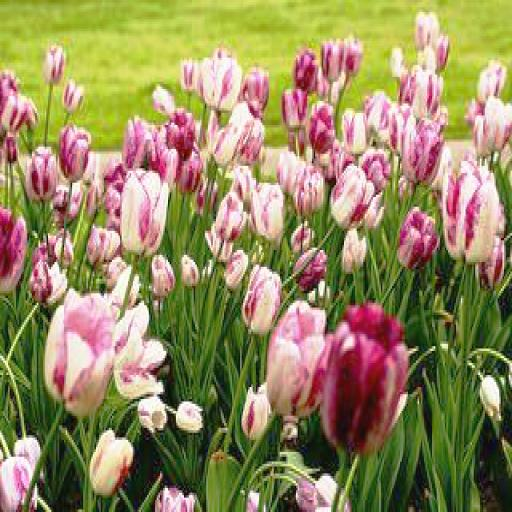tulip: (325, 300, 403, 454), (45, 291, 115, 411), (267, 298, 328, 414), (442, 161, 499, 262), (120, 166, 168, 255), (400, 108, 445, 178), (90, 428, 134, 490), (395, 207, 440, 267), (243, 264, 282, 330), (203, 48, 242, 106), (331, 168, 373, 221), (58, 125, 91, 183), (251, 183, 285, 238), (26, 144, 58, 197), (242, 382, 272, 438), (214, 190, 246, 240), (166, 106, 196, 154), (310, 101, 336, 147), (278, 89, 308, 127), (322, 36, 342, 79), (176, 399, 202, 430), (45, 43, 64, 82), (62, 80, 85, 110)
